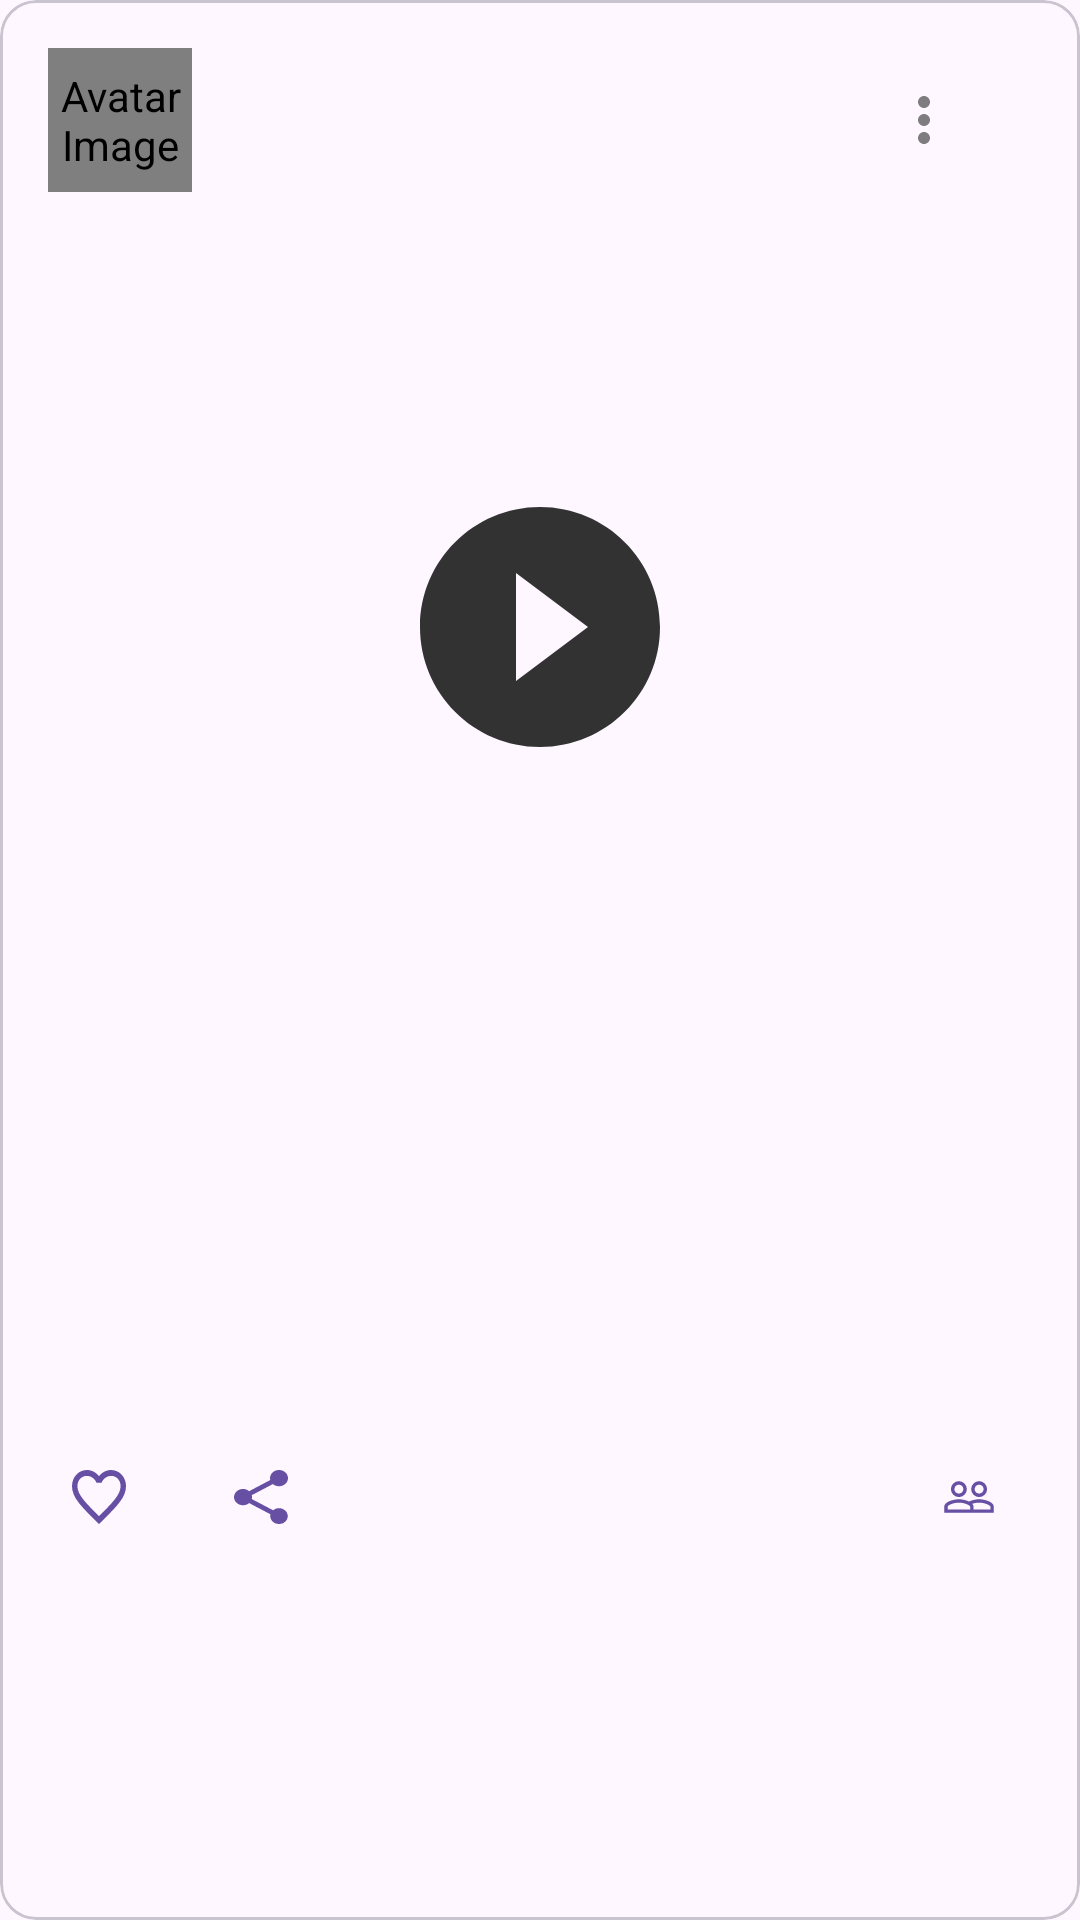

Icons on this 1080x1920 Android screen, each with the point to tap as (x=x, y=y):
Icon Menu Button: (x=924, y=120)
play: (x=540, y=627)
